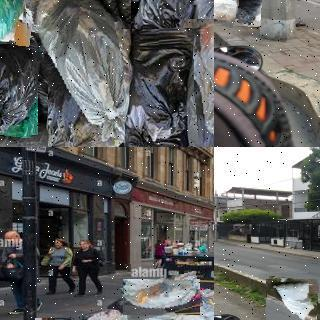Garbage: (39, 0, 139, 147), (123, 28, 194, 147), (0, 16, 41, 136), (181, 17, 214, 147), (122, 275, 202, 319), (15, 0, 103, 33), (265, 277, 317, 320), (0, 0, 26, 44), (227, 0, 261, 26), (214, 0, 238, 25)
